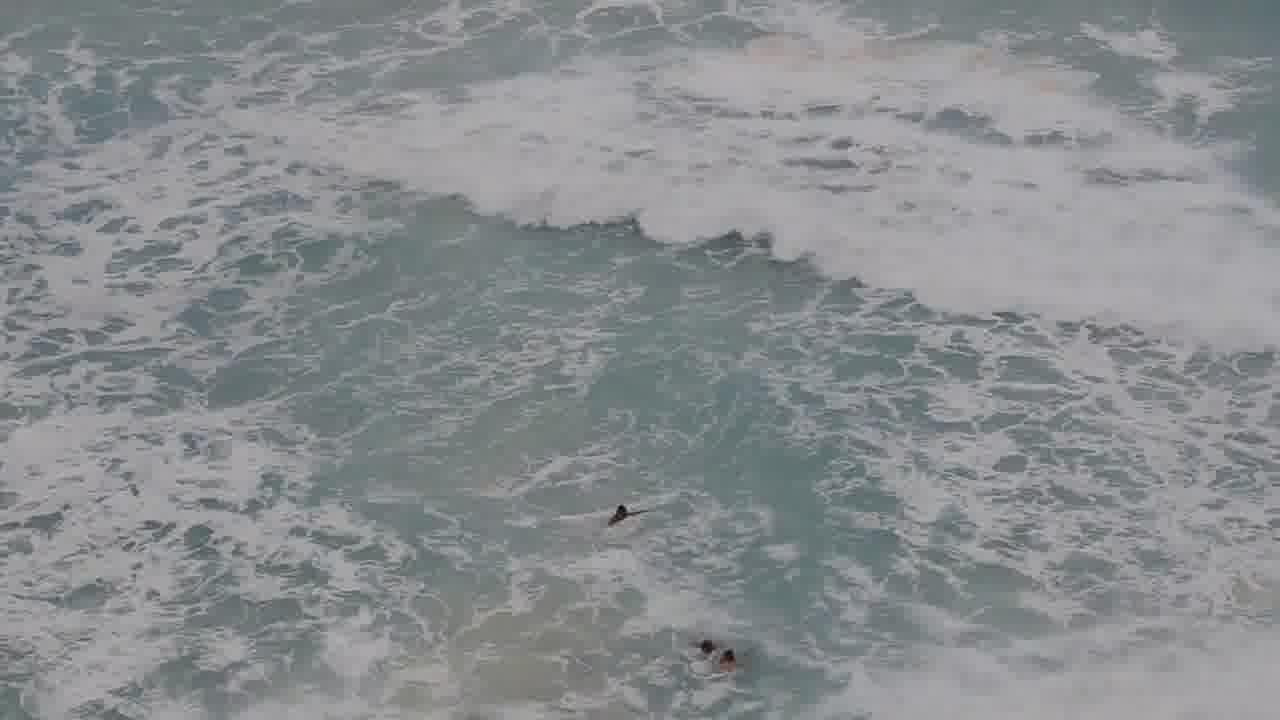human: (589, 490, 655, 539), (708, 637, 758, 680), (684, 625, 725, 657)
